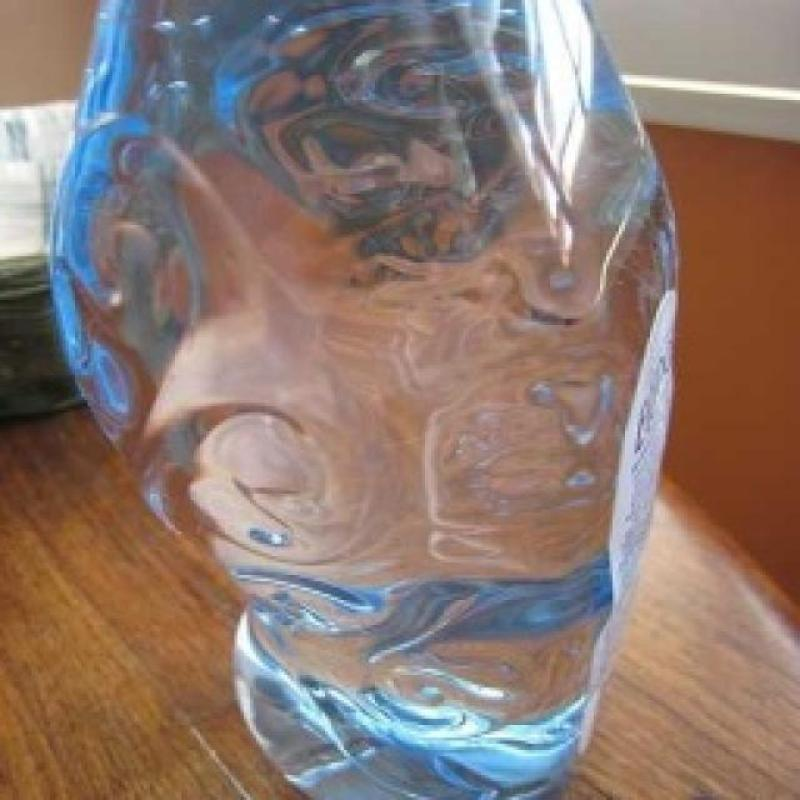botella: (48, 0, 677, 800)
